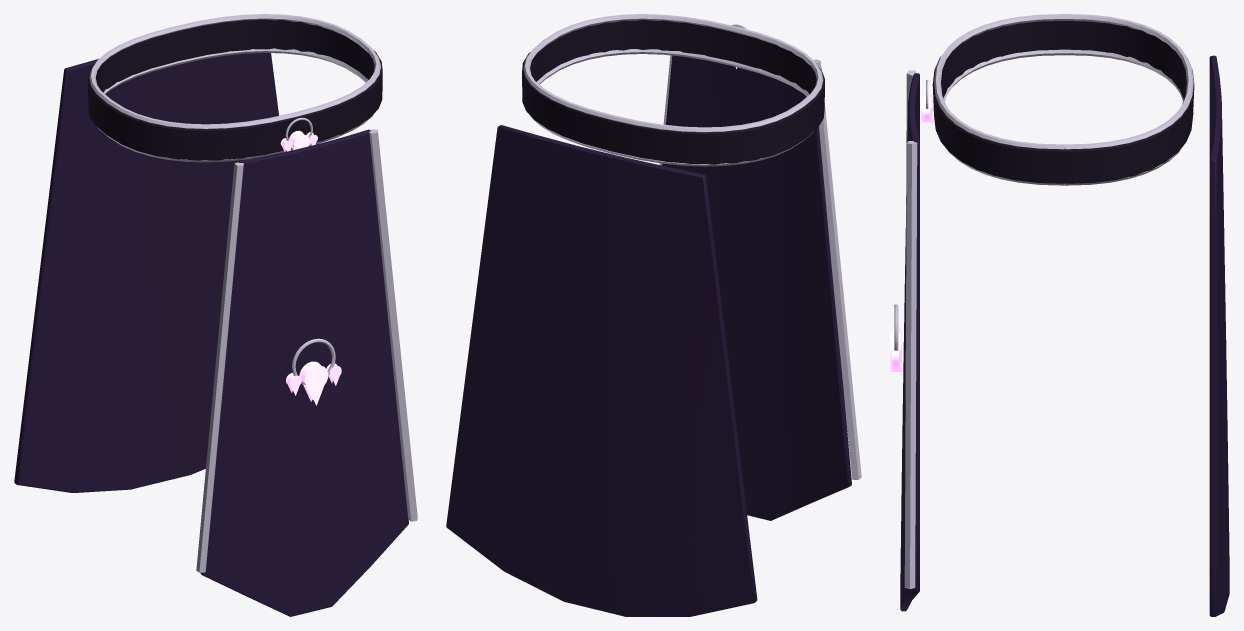
The model's file is boss_wailing_mistress_inner_garment.glb.
3 renders of one model, left to right at view 1: azimuth 30°, elevation 25°; view 2: azimuth 150°, elevation 25°; view 3: azimuth 270°, elevation 25°, orthographic. The views are drawn at different scales.
Parts seen in each view (by area): view 1: boss_wailing_mistress_inner_garment; view 2: boss_wailing_mistress_inner_garment; view 3: boss_wailing_mistress_inner_garment.
Part boxes in pixels (x1=…): boss_wailing_mistress_inner_garment: x1=14, y1=14, x2=417, y2=616; boss_wailing_mistress_inner_garment: x1=446, y1=14, x2=861, y2=616; boss_wailing_mistress_inner_garment: x1=890, y1=14, x2=1229, y2=616.
Bounding box in the file's own units: 0.5401 × 0.8337 × 0.4924.
